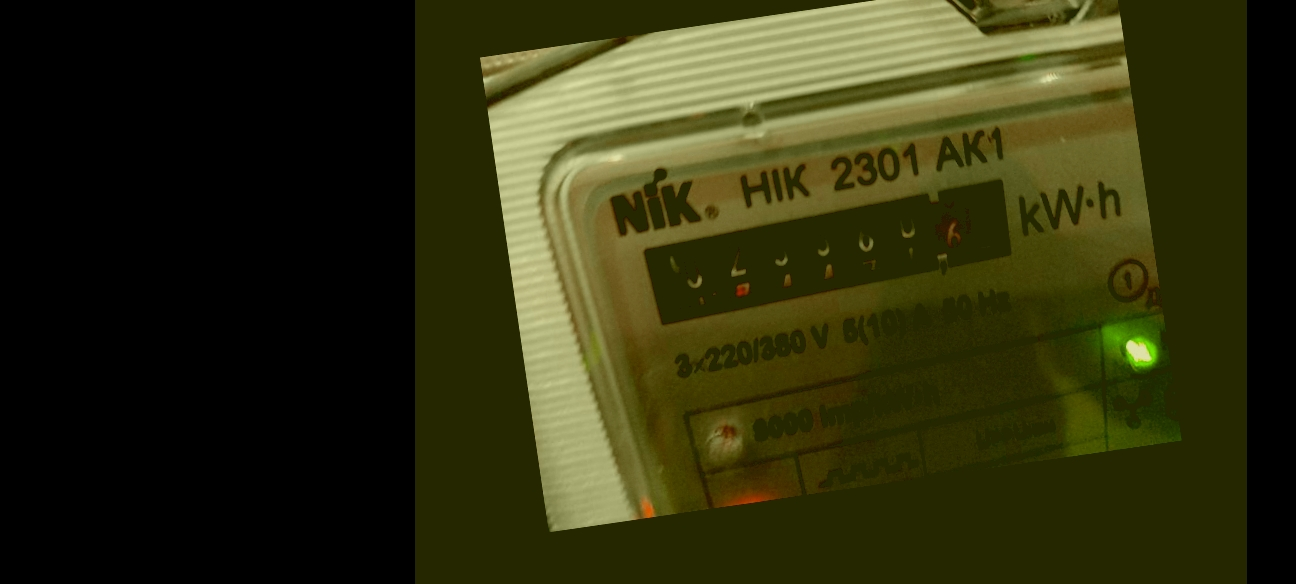0: (677, 247, 707, 292), (892, 201, 920, 241)
2: (719, 235, 751, 278)
3: (765, 227, 792, 269), (807, 219, 834, 259)
6: (848, 212, 880, 256), (941, 213, 967, 252)
screen: (617, 162, 1031, 337)
